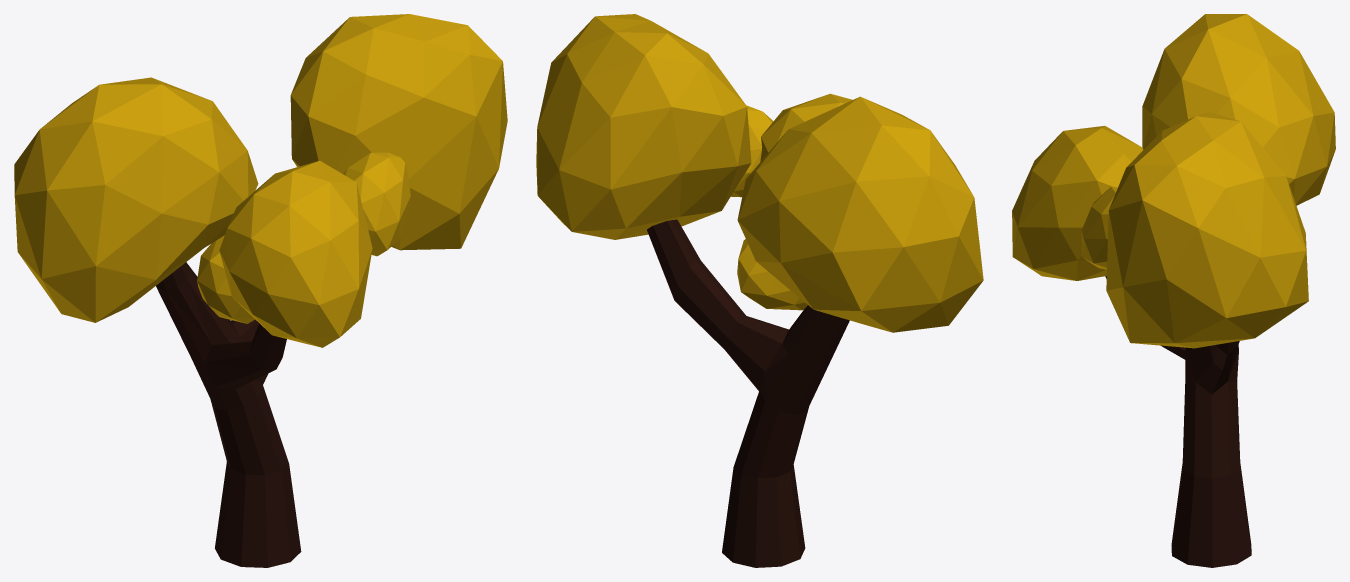
Rendered from t2-yellow.obj.
3 views of the same model, side by side, from view 1: azimuth 30°, elevation 25°; view 2: azimuth 150°, elevation 25°; view 3: azimuth 270°, elevation 25° (orthographic). The views are drawn at different scales.
Visible parts, largest first — view 1: t2-yellow_Icosphere.027; view 2: t2-yellow_Icosphere.027; view 3: t2-yellow_Icosphere.027.
Part boxes in pixels (x1=…): t2-yellow_Icosphere.027: x1=14, y1=14, x2=507, y2=567; t2-yellow_Icosphere.027: x1=536, y1=14, x2=983, y2=567; t2-yellow_Icosphere.027: x1=1012, y1=14, x2=1335, y2=567.
Bounding box in the file's own units: 6.73 × 7.18 × 4.35.
